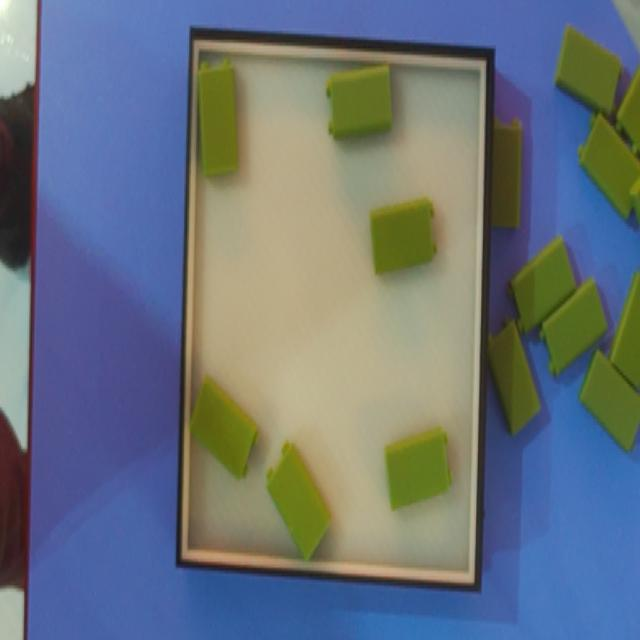bateria: (265, 441, 332, 565), (189, 376, 260, 483), (539, 276, 609, 380), (485, 317, 542, 437), (508, 237, 576, 335), (554, 25, 624, 119), (383, 428, 452, 513), (370, 195, 437, 276), (326, 66, 393, 141), (197, 59, 238, 174)
